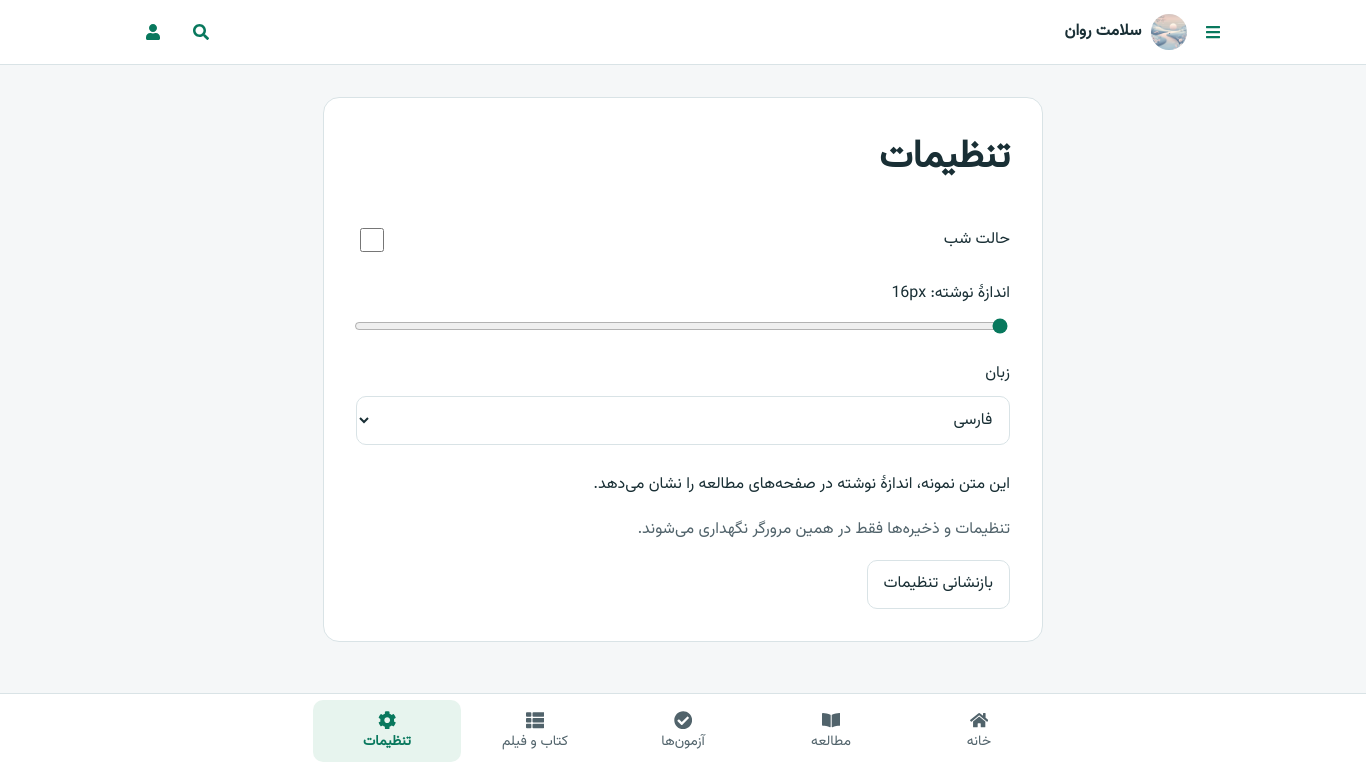
routing and accessible content › supports a visible language change and language notice
Select "Deutsch" in the dropdown at {"x": 683, "y": 420}, box left=356, top=396, right=1010, bottom=445
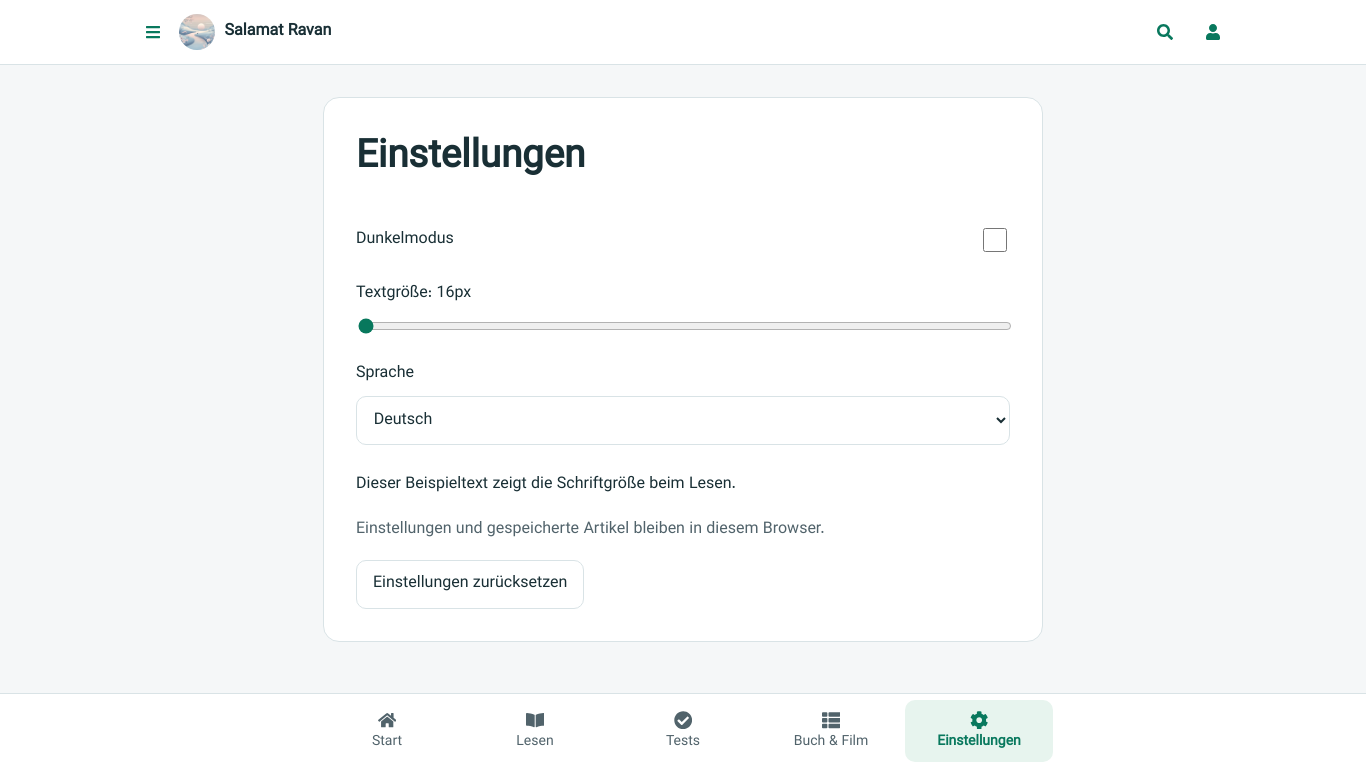
Click the link "Lesen".
click(535, 732)  # box left=516, top=711, right=554, bottom=753
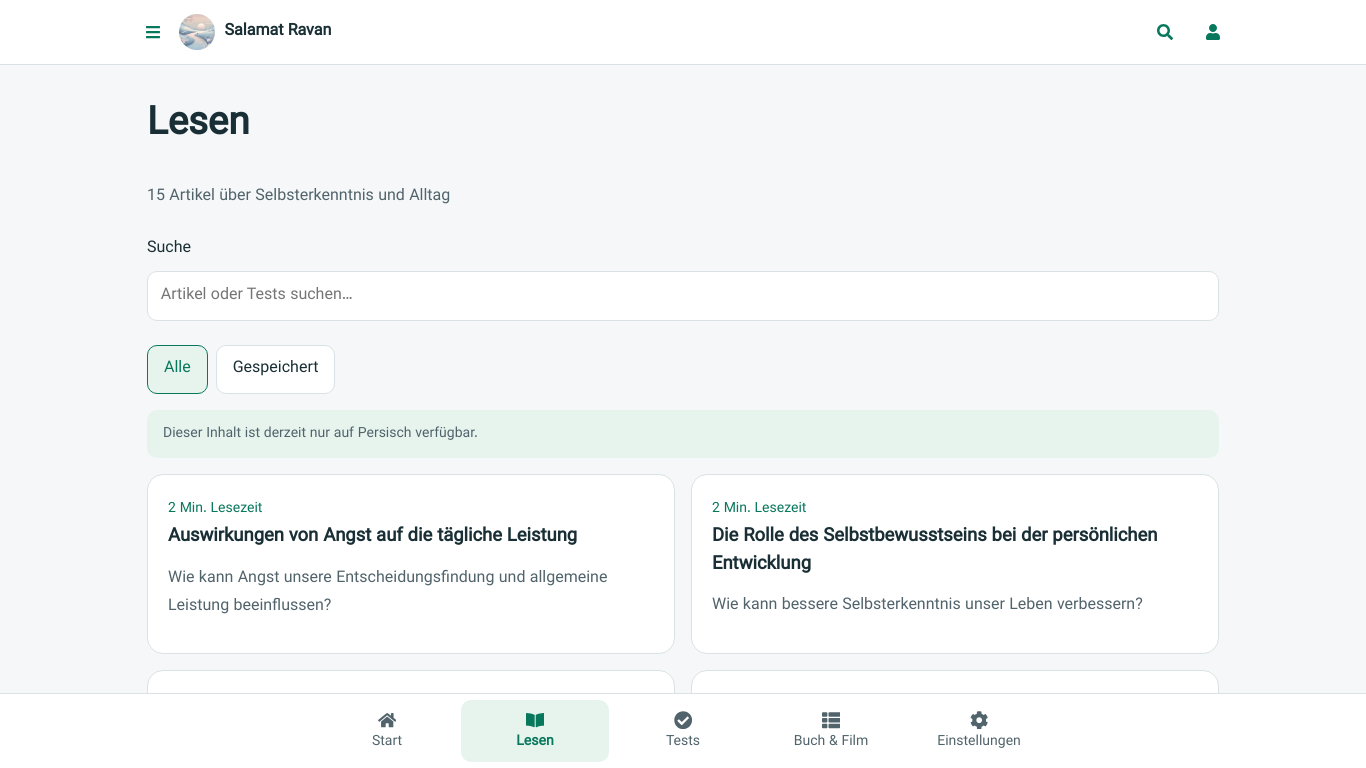
Result: the text "Dieser Inhalt ist derzeit nur auf Persisch verfügbar." is shown at left=147, top=410, right=1219, bottom=458
